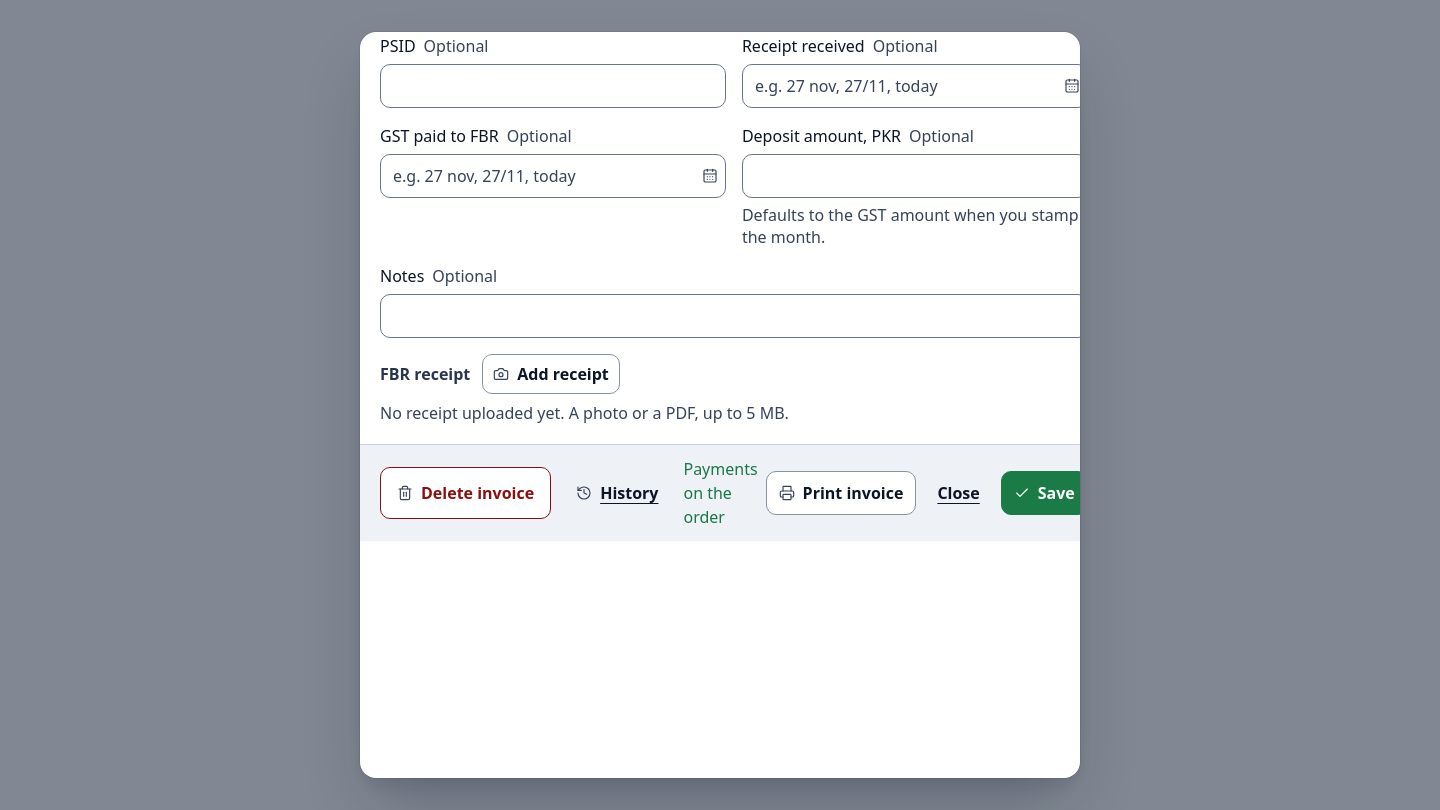
Test: Invoice: delete › a refusal after the page loaded does not guess a statement month: it says a bank statement (M6)
The width and height of the screenshot is (1440, 810).
(page scrolled)
Click the button "Delete invoice" at point(466, 493), box left=380, top=467, right=551, bottom=519
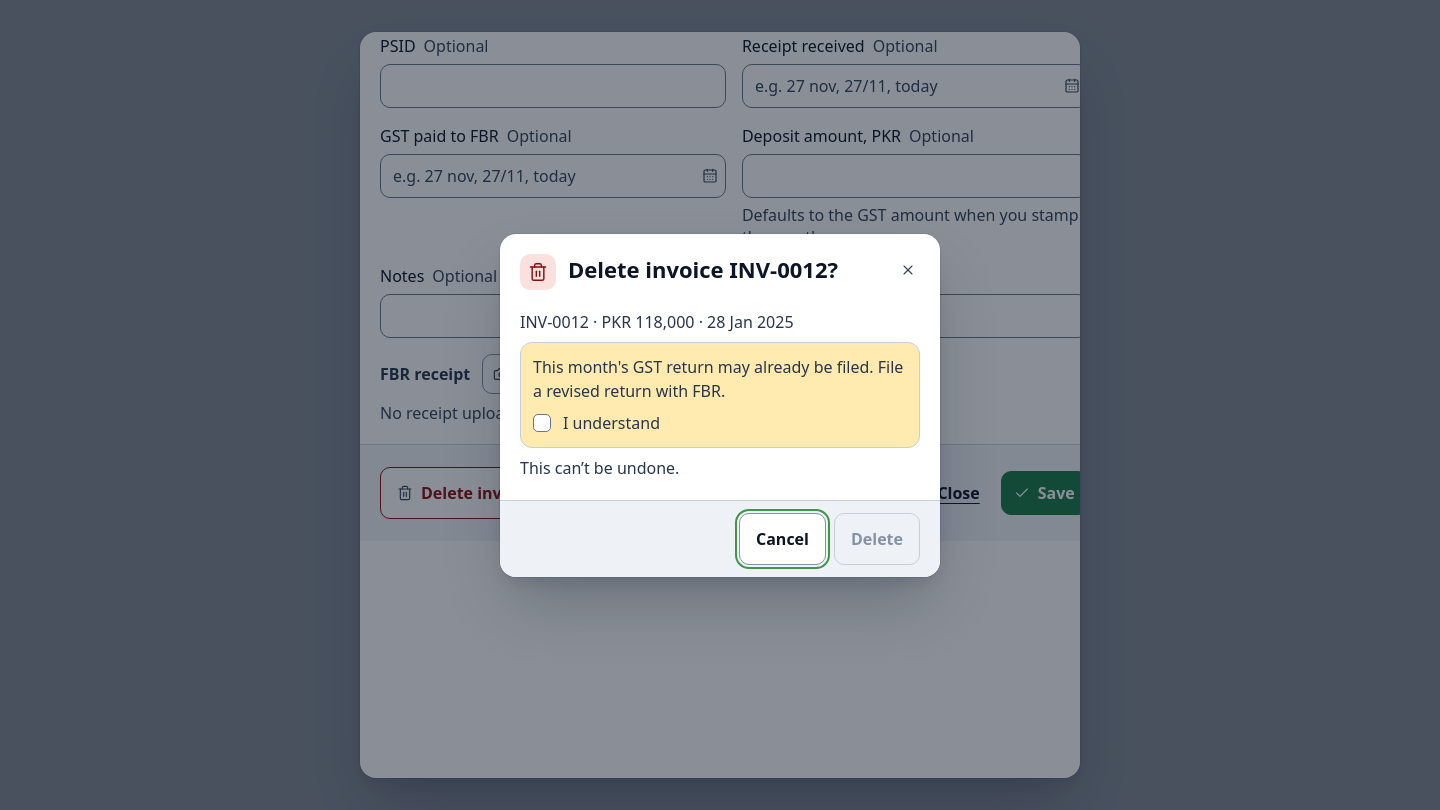
Click the checkbox named "I understand" at point(542, 422), box left=533, top=414, right=551, bottom=432
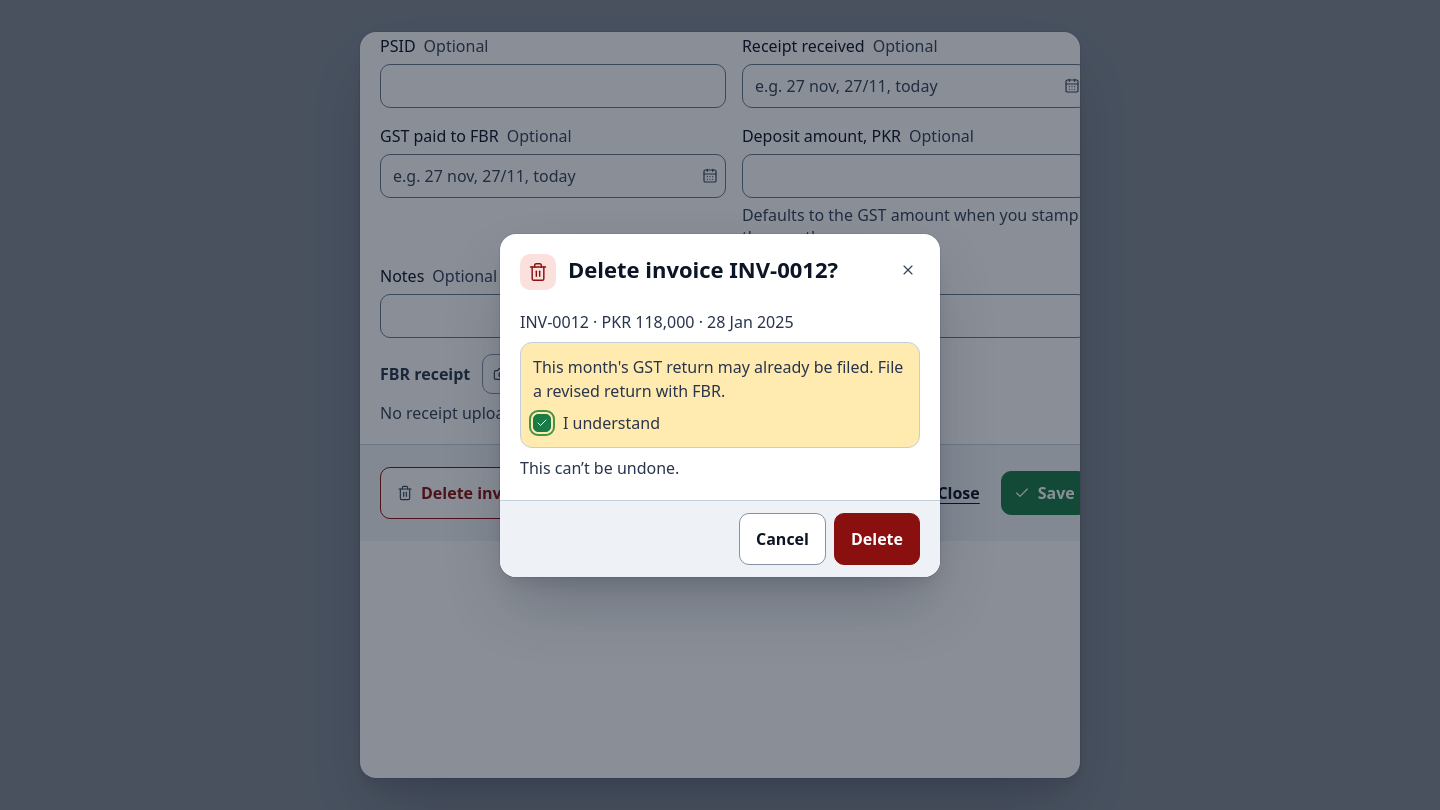
Click the button "Delete" at point(877, 538), box left=834, top=512, right=920, bottom=564
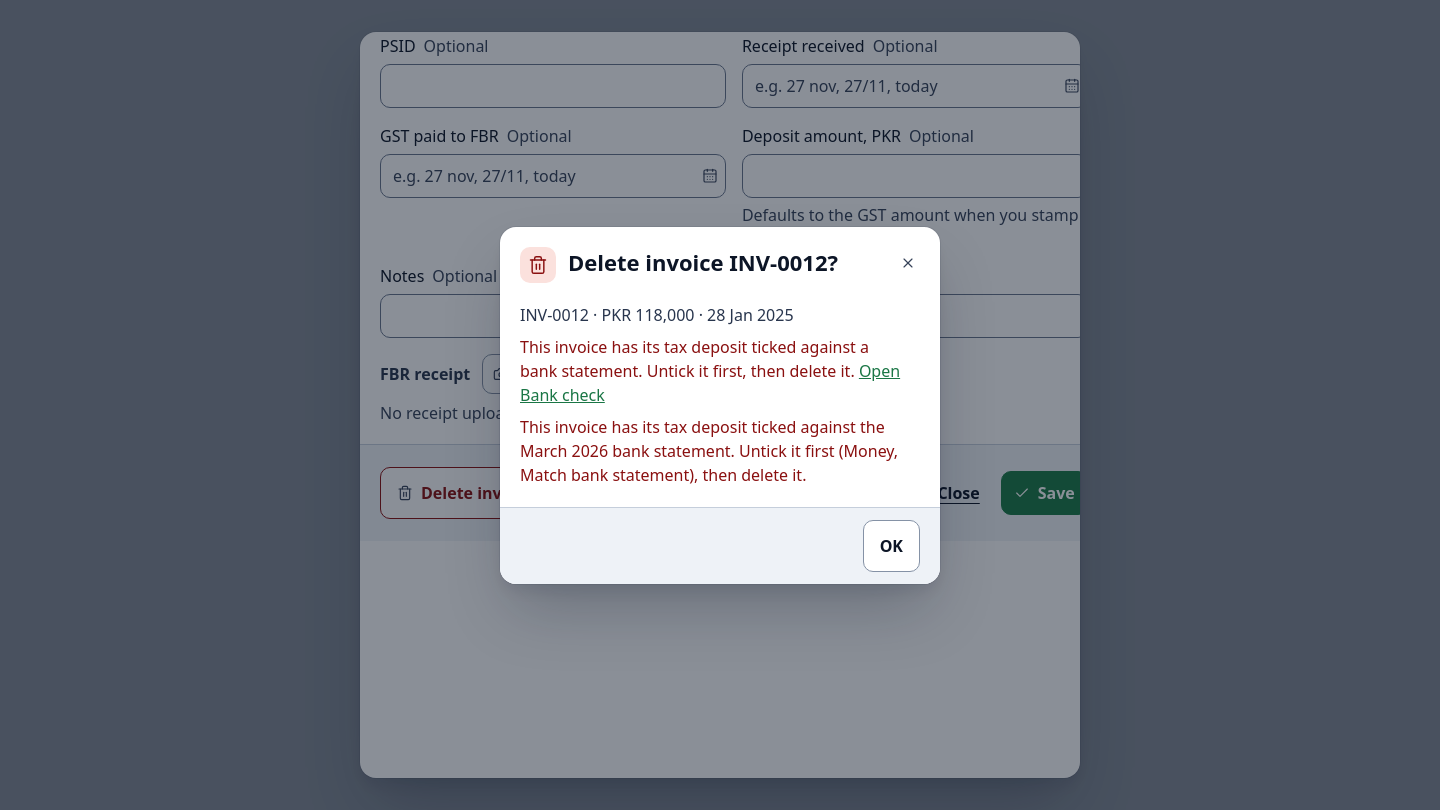
Check: the text "ticked against a bank statement. Untick it first" is shown, box left=520, top=336, right=869, bottom=382
